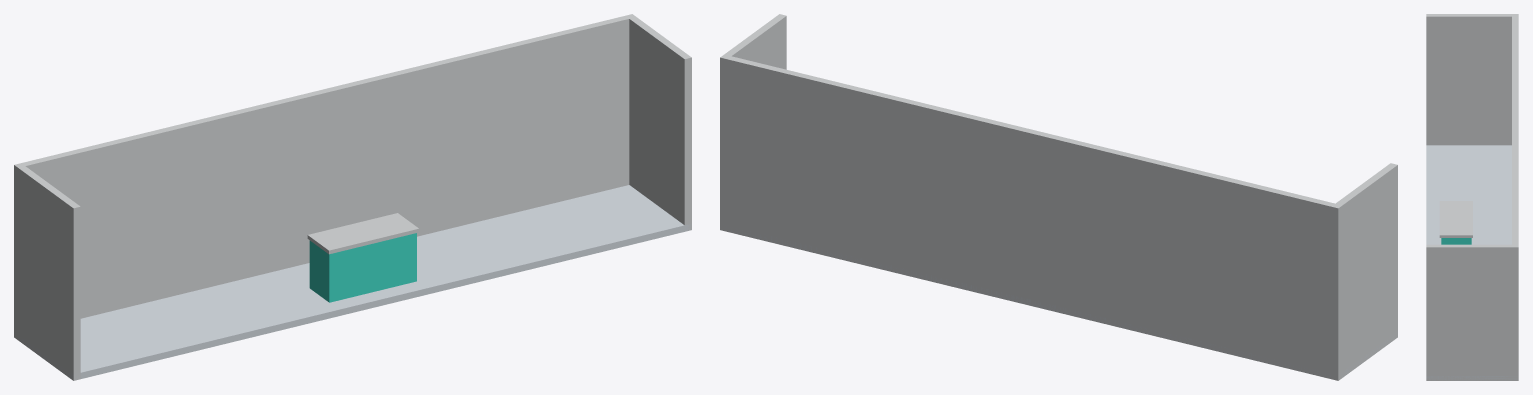
3 views of the same model, side by side, from view 1: azimuth 30°, elevation 25°; view 2: azimuth 150°, elevation 25°; view 3: azimuth 270°, elevation 25° (orthographic). The views are drawn at different scales.
Parts seen in each view (by area): view 1: Exhibition Booth Concept; view 2: Exhibition Booth Concept; view 3: Exhibition Booth Concept.
Part boxes in pixels (<box>): Exhibition Booth Concept: <box>14,14,691,380</box>; Exhibition Booth Concept: <box>720,14,1397,380</box>; Exhibition Booth Concept: <box>1426,14,1518,380</box>.
Bounding box in the file's own units: 12 × 3.2 × 2.
